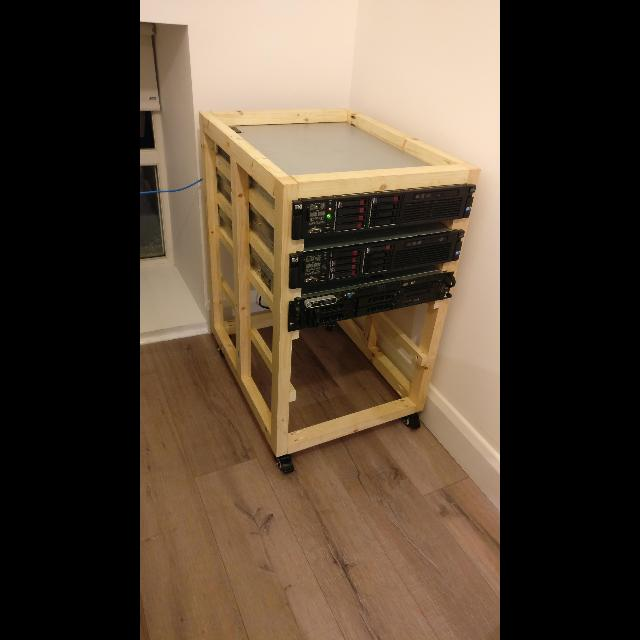Server: (283, 166, 471, 456)
